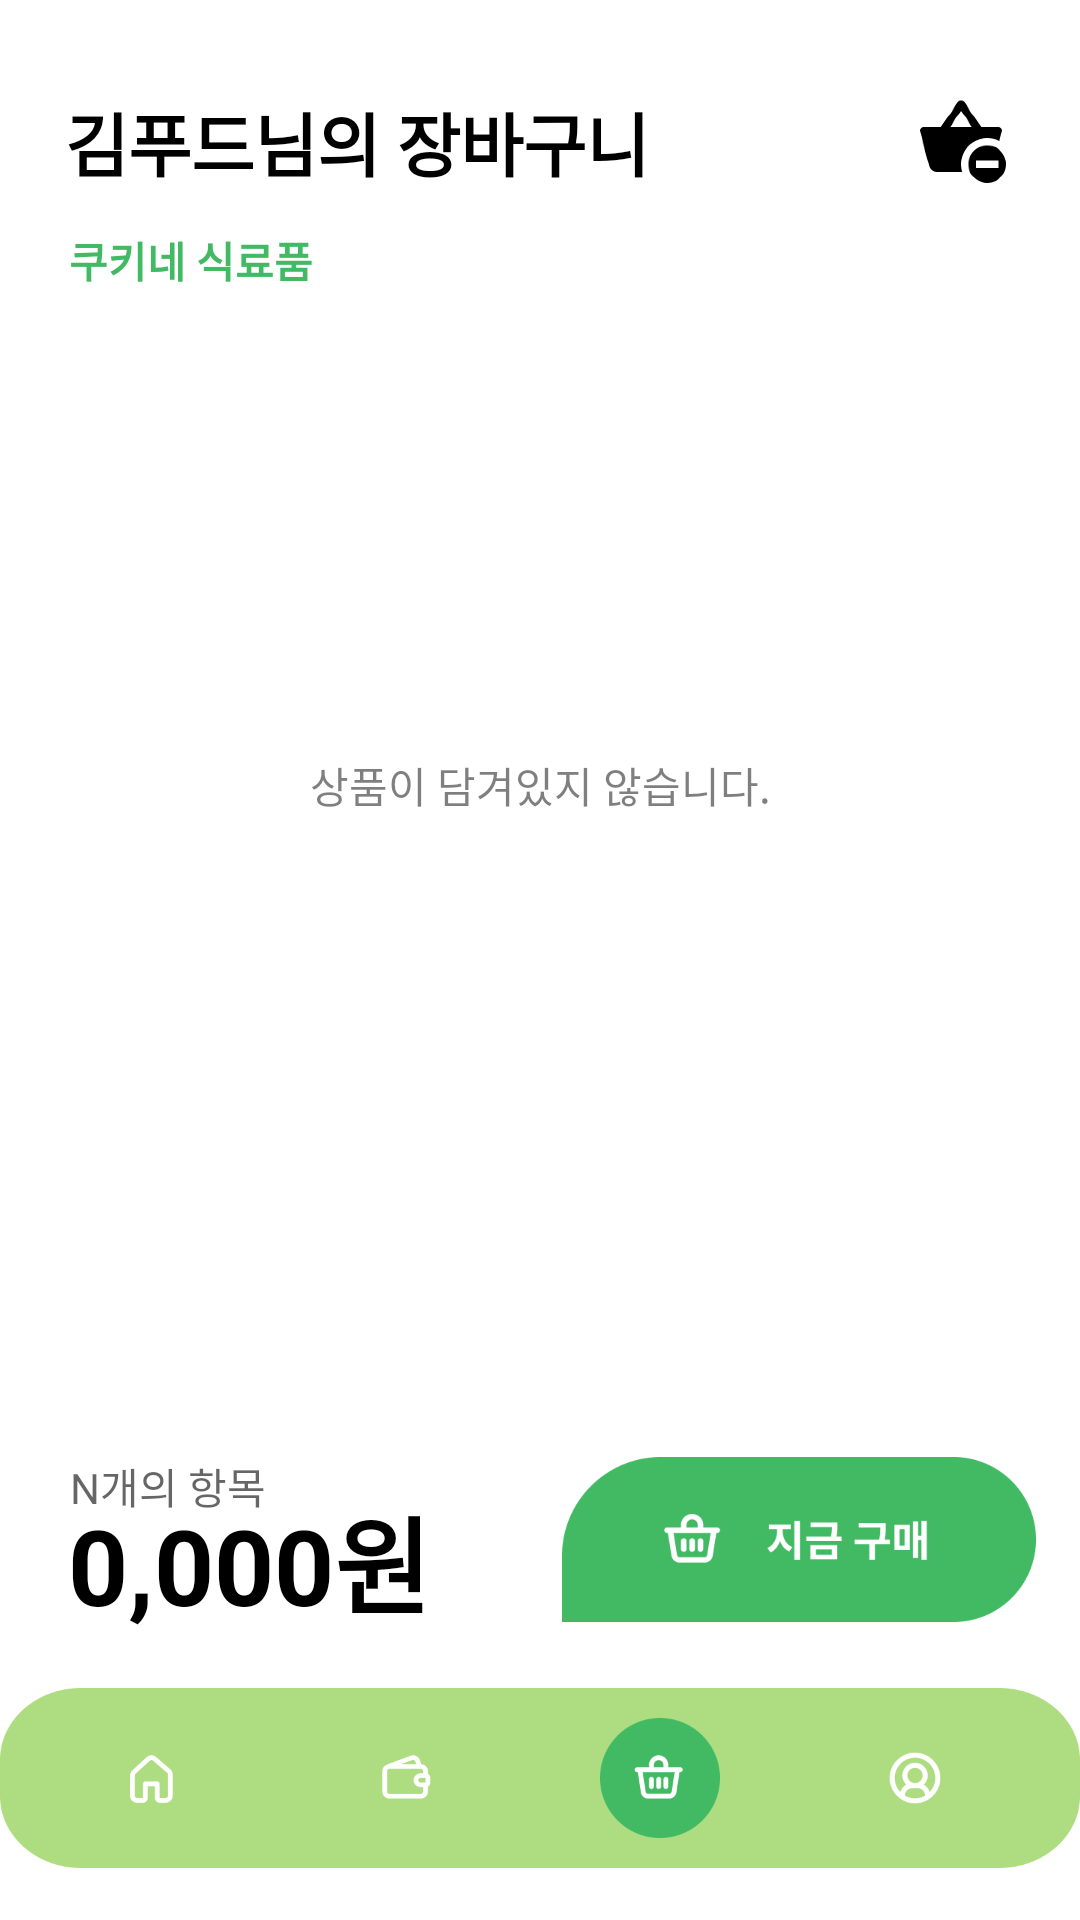

Icon bounding boxes for this 1080 x 1920 phone screenshot, format (x1, y1, x2, y2):
clear shoppingbasket: (920, 100, 1006, 183)
